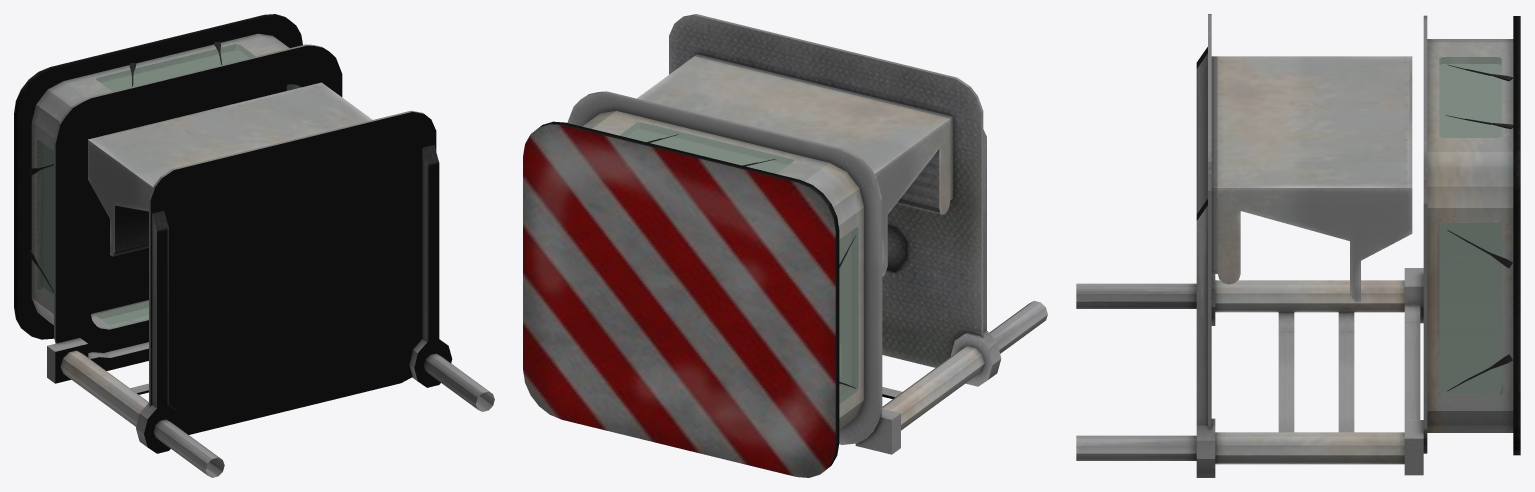
The model's file is cabinePontDEnvol.fbx.
The picture shows the model from 3 angles, left to right: view 1: azimuth 30°, elevation 25°; view 2: azimuth 150°, elevation 25°; view 3: azimuth 270°, elevation 25°; orthographic projection. The views are drawn at different scales.
Parts seen in each view (by area): view 1: ShapeIndexedFaceSet, ShapeIndexedFaceSet_002; view 2: ShapeIndexedFaceSet, ShapeIndexedFaceSet_002; view 3: ShapeIndexedFaceSet, ShapeIndexedFaceSet_002, ShapeIndexedFaceSet_001.
Part boxes in pixels (x1,y1,x2,y2): ShapeIndexedFaceSet: (14,14,494,477); ShapeIndexedFaceSet_002: (37,44,300,327); ShapeIndexedFaceSet: (523,14,1047,477); ShapeIndexedFaceSet_002: (619,122,858,403); ShapeIndexedFaceSet: (1076,14,1520,477); ShapeIndexedFaceSet_002: (1439,57,1501,396); ShapeIndexedFaceSet_001: (1445,64,1513,391).
Size of the model in its own units: 2.58 by 2.2 by 2.79.
